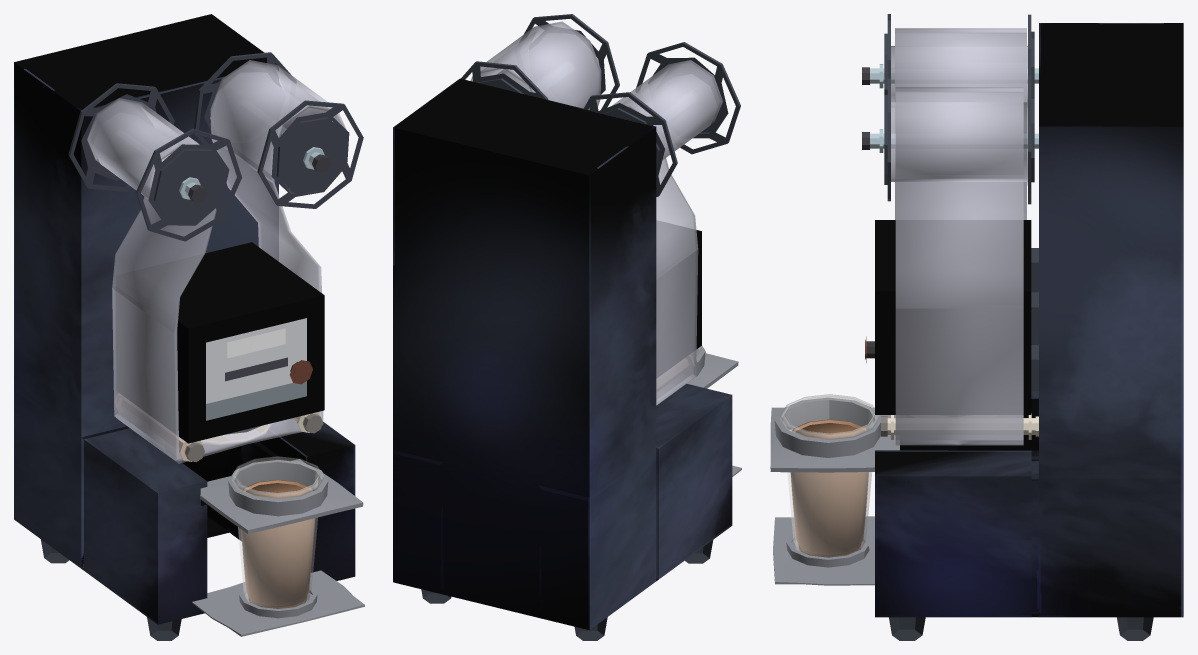
Rendered from drink-machine_READY_Game-Animation.glb.
The picture shows the model from 3 angles, left to right: view 1: azimuth 30°, elevation 25°; view 2: azimuth 150°, elevation 25°; view 3: azimuth 270°, elevation 25°; orthographic projection. The views are drawn at different scales.
Parts seen in each view (by area): view 1: machine base, plastic, seal box main, back left wheel turn, front right wheel turn, cup holder sliders, Cup.001, lower left rotation pole, top, right pole up turn, left up pole; view 2: machine base, plastic, back left wheel turn, front right wheel turn, seal box main, cup holder sliders, lower left rotation pole; view 3: machine base, plastic, seal box main, cup holder sliders, front right wheel turn, Cup.001, back left wheel turn, lower right rotation pole, right pole up turn, left up pole.
Part boxes in pixels (x1,y1,x2,y2): machine base: (14,14,355,640); plastic: (87,60,346,463); seal box main: (116,242,324,443); back left wheel turn: (68,83,241,241); front right wheel turn: (194,52,363,208); cup holder sliders: (192,459,364,636); Cup.001: (231,456,323,608); lower left rotation pole: (115,394,204,462); top: (201,423,272,445); right pole up turn: (280,127,330,172); left up pole: (162,159,206,203); machine base: (393,78,732,640); plastic: (470,21,722,405); back left wheel turn: (584,42,740,196); front right wheel turn: (461,14,619,109); seal box main: (657,221,701,377); cup holder sliders: (687,346,741,476); lower left rotation pole: (657,353,696,391); machine base: (875,23,1183,640); plastic: (895,28,1026,445); seal box main: (875,220,1031,414); cup holder sliders: (770,397,899,585); front right wheel turn: (884,75,1034,204); Cup.001: (780,394,879,557); back left wheel turn: (884,14,1034,102); lower right rotation pole: (881,413,1038,439); right pole up turn: (862,129,1038,152); left up pole: (862,64,1038,88).
Bounding box in the file's own units: 2.74 × 5.82 × 3.99.
35 materials, 2 textured.
